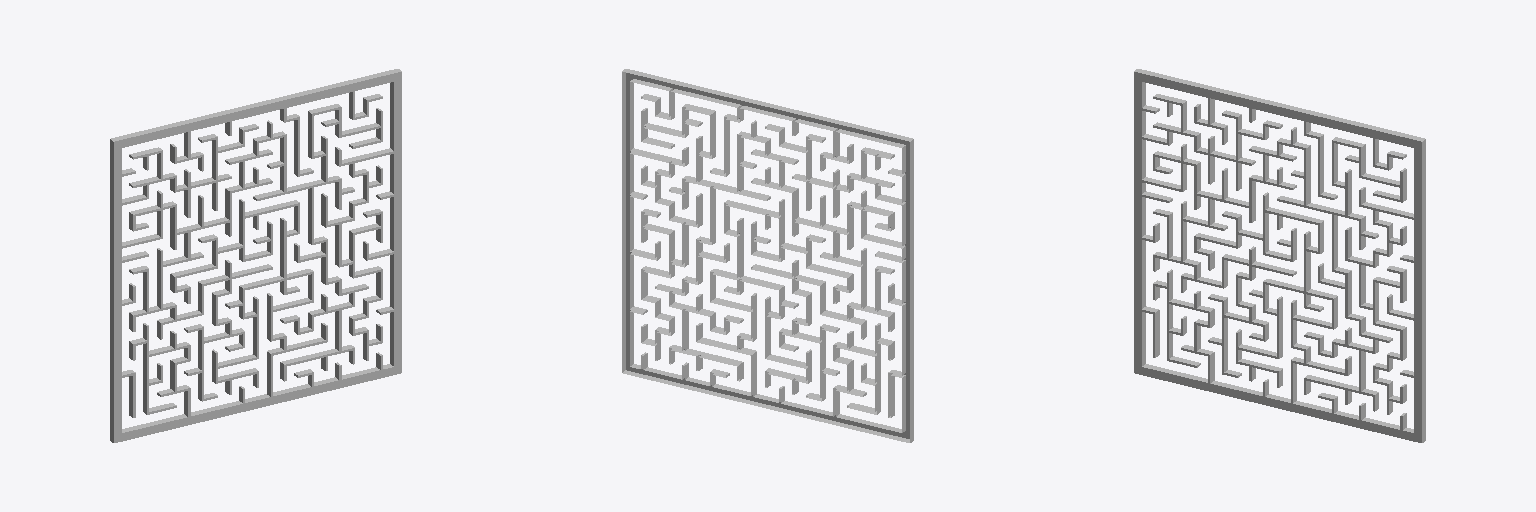
File: tes1.obj
3 views of the same model, side by side, from view 1: azimuth 30°, elevation 25°; view 2: azimuth 150°, elevation 25°; view 3: azimuth 330°, elevation 25° (orthographic).
Visible parts, largest first — view 1: Plane; view 2: Plane; view 3: Plane.
Part boxes in pixels (left/top/right/bottom): Plane: left=110, top=69, right=401, bottom=442; Plane: left=622, top=69, right=913, bottom=442; Plane: left=1134, top=69, right=1425, bottom=442.
Size of the model in its own units: 3.16 by 3.16 by 0.0789.